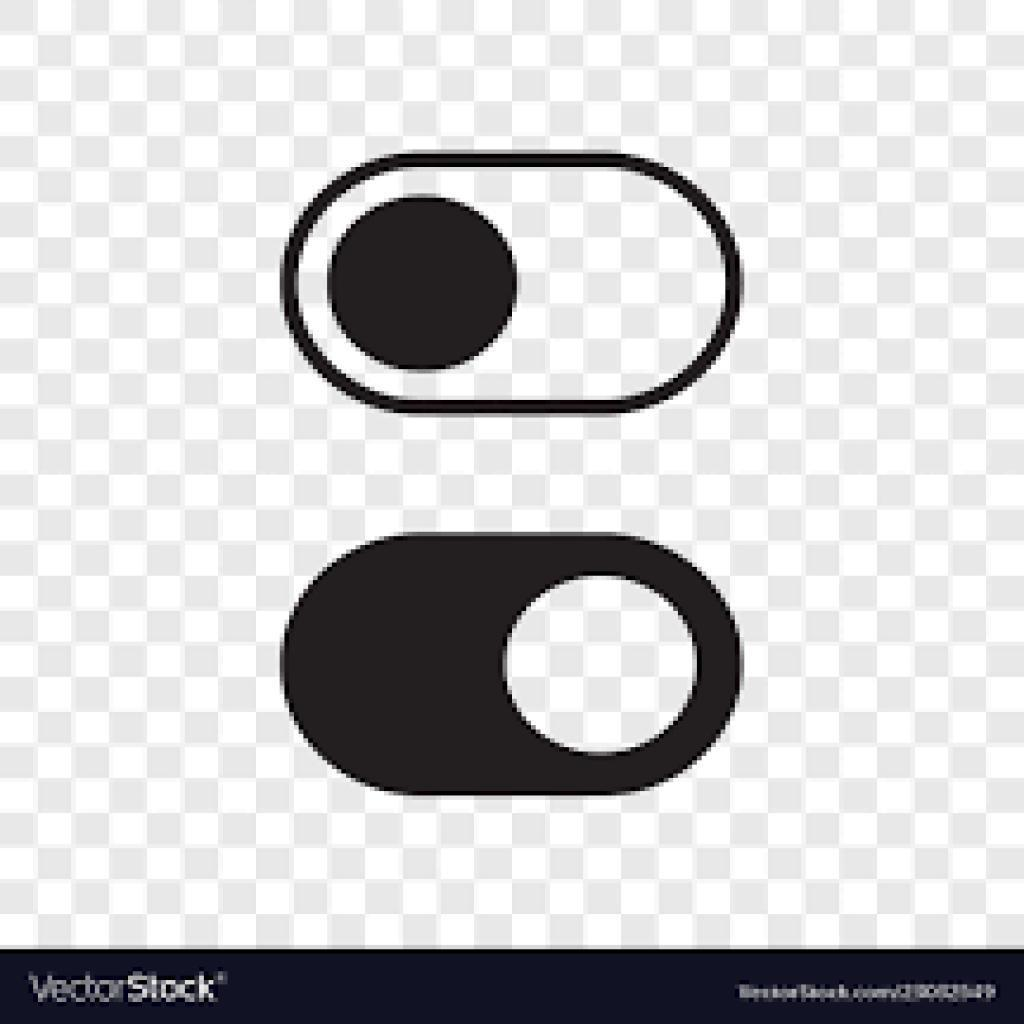switch: (277, 149, 741, 413), (282, 534, 742, 795)
